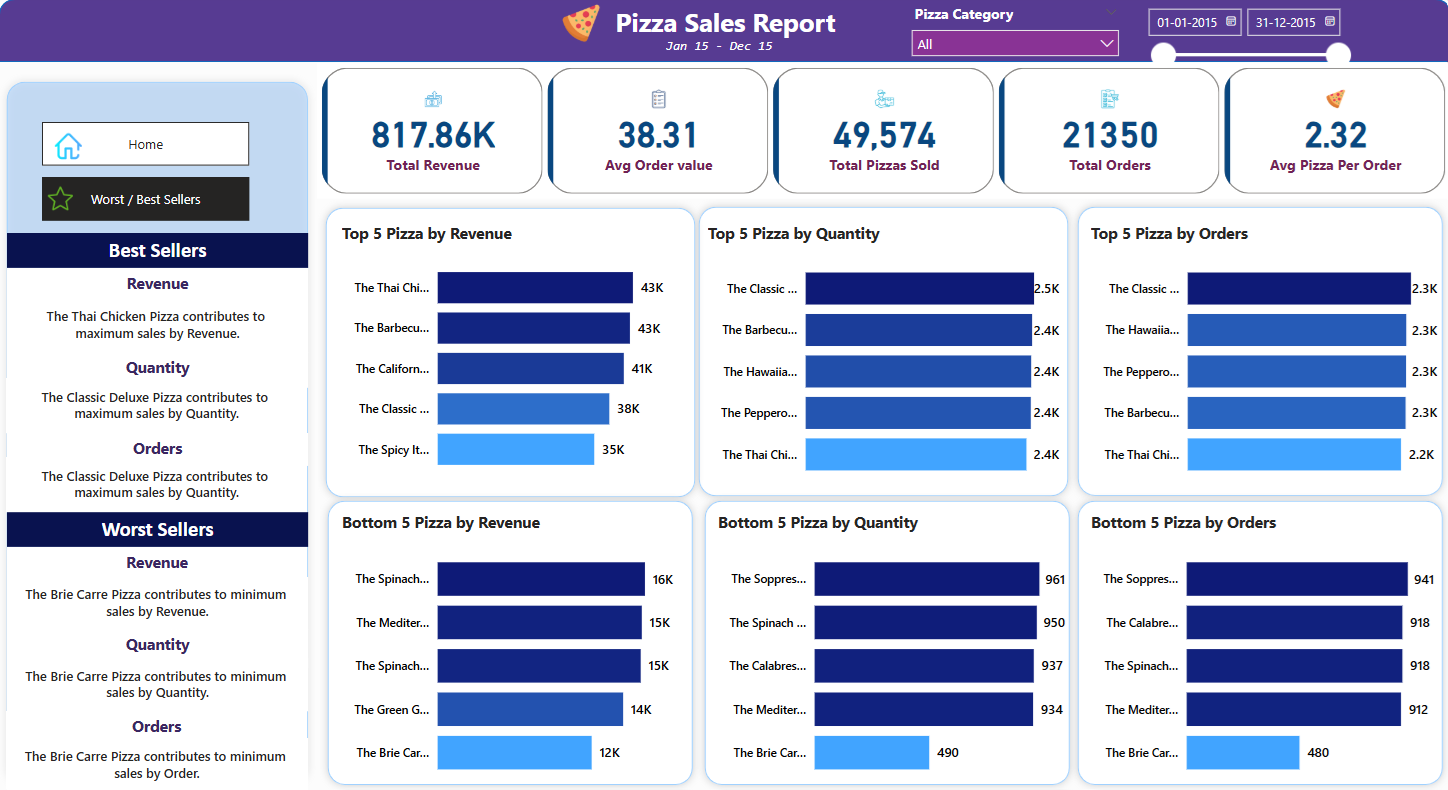

The page's visual inventory and layout, read from the dashboard file:
{"tool":"powerbi","page":{"name":"Worst / Best Sellers","canvas":[1500,820],"ordinal":1},"visuals":[{"type":"shape","box":[0,77.5,327.4,741.5],"z":0},{"type":"cardVisual","fields":{"Data":["pizzasales.Total Revenue","pizzasales.Avg Order value","pizzasales.Total Pizzas Sold","pizzasales.Total Orders","pizzasales.Avg Pizza Per Order"]},"box":[328.4,66.1,1171.1,140.5],"z":1000},{"type":"shape","box":[0,0,1500,65],"z":2000},{"type":"textbox","box":[612.1,0,275.8,50.2],"z":3000},{"type":"textbox","box":[683.9,34.2,131.1,31.9],"z":4000},{"type":"image","box":[573.3,0,57,50.2],"z":5000},{"type":"textbox","box":[8.3,241.7,310.9,36.1],"z":6000},{"type":"textbox","box":[8.3,277.8,310.9,31],"z":7000},{"type":"textbox","box":[8.3,529.8,310.9,36.1],"z":8000},{"type":"slicer","fields":{"Values":["pizzasales.pizza_category"]},"box":[932.6,0,234.4,65.1],"z":9000},{"type":"slicer","fields":{"Values":["pizzasales.order_date"]},"box":[1174,0,230.2,78.6],"z":10000},{"type":"shape","box":[714.7,206.5,397.6,315],"z":11000},{"type":"shape","box":[1106.1,206.5,393.5,315],"z":12000},{"type":"shape","box":[329.4,207.6,397.6,315],"z":13000},{"type":"shape","box":[1106.1,510.2,393.5,309.8],"z":14000},{"type":"shape","box":[331.5,510.2,393.5,309.8],"z":15000},{"type":"shape","box":[720.9,510.2,393.5,309.8],"z":16000},{"type":"barChart","title":"Top 5 Pizza by Revenue","fields":{"Category":["pizzasales.pizza_name"],"Y":["pizzasales.Total Revenue"]},"box":[349.1,231.3,364.6,272.6],"z":17000},{"type":"barChart","title":"Bottom 5 Pizza by Revenue","fields":{"Category":["pizzasales.pizza_name"],"Y":["pizzasales.Total Revenue"]},"box":[349.1,529.8,365.6,290.2],"z":18000},{"type":"barChart","title":"Top 5 Pizza by Quantity","fields":{"Category":["pizzasales.pizza_name"],"Y":["pizzasales.Total Pizzas Sold"]},"box":[727.1,231.3,372.8,278.8],"z":19000},{"type":"barChart","title":"Bottom 5 Pizza by Quantity","fields":{"Category":["pizzasales.pizza_name"],"Y":["pizzasales.Total Pizzas Sold"]},"box":[737.4,529.8,368.7,290.2],"z":20000},{"type":"barChart","title":"Top 5 Pizza by Orders","fields":{"Category":["pizzasales.pizza_name"],"Y":["pizzasales.Total Orders"]},"box":[1122.6,231.3,367.7,278.8],"z":21000},{"type":"barChart","title":"Bottom 5 Pizza by Orders","fields":{"Category":["pizzasales.pizza_name"],"Y":["pizzasales.Total Orders"]},"box":[1122.6,529.8,364.6,290.2],"z":22000},{"type":"pageNavigator","box":[44.4,183.8,214.8,45.4],"z":23000},{"type":"pageNavigator","box":[44.4,127,214.8,45.4],"z":24000},{"type":"image","box":[52.7,127,38.2,49.6],"z":25000},{"type":"image","box":[44.4,188,38.2,36.1],"z":26000},{"type":"textbox","box":[8.3,364.6,310.9,37.2],"z":27000},{"type":"card","fields":{"Values":["pizzasales.Top Selling Pizza by Revenue"]},"box":[8.3,308.8,310.9,55.8],"z":28000},{"type":"card","fields":{"Values":["pizzasales.Top Selling Pizza by TPS"]},"box":[7.2,391.4,310.9,56.8],"z":29000},{"type":"textbox","box":[8.3,448.2,310.9,34.1],"z":30000},{"type":"card","fields":{"Values":["pizzasales.Top Selling Pizza by TPS"]},"box":[7.2,473,310.9,56.8],"z":31000},{"type":"textbox","box":[8.3,565.9,309.8,38.2],"z":32000},{"type":"card","fields":{"Values":["pizzasales.Bottom Selling Pizza by Revenue"]},"box":[8.3,596.9,310.9,53.7],"z":33000},{"type":"textbox","box":[7.2,735.3,310.9,39.2],"z":34000},{"type":"card","fields":{"Values":["pizzasales.Bottom Selling Pizza by TPS"]},"box":[8.3,680.6,310.9,54.7],"z":35000},{"type":"textbox","box":[8.3,650.6,310.9,40.3],"z":35001},{"type":"card","fields":{"Values":["pizzasales.Bottom Selling Pizza by Order"]},"box":[7.2,763.2,311.9,55.8],"z":35002}]}

Visuals, with their boxes in screenshot pixels (x1, y1, x2, y2), scaled from the page's 1500x820 canvas onto the 1448x790 screenshot:
shape: left=0, top=75, right=316, bottom=789
cardVisual - pizzasales.Total Revenue x pizzasales.Avg Order value: left=317, top=64, right=1447, bottom=199
shape: left=0, top=0, right=1447, bottom=63
textbox: left=591, top=0, right=857, bottom=48
textbox: left=660, top=33, right=787, bottom=64
image: left=553, top=0, right=608, bottom=48
textbox: left=8, top=233, right=308, bottom=268
textbox: left=8, top=268, right=308, bottom=298
textbox: left=8, top=510, right=308, bottom=545
slicer - pizzasales.pizza_category: left=900, top=0, right=1127, bottom=63
slicer - pizzasales.order_date: left=1133, top=0, right=1356, bottom=76
shape: left=690, top=199, right=1074, bottom=502
shape: left=1068, top=199, right=1447, bottom=502
shape: left=318, top=200, right=702, bottom=503
shape: left=1068, top=492, right=1447, bottom=789
shape: left=320, top=492, right=700, bottom=789
shape: left=696, top=492, right=1076, bottom=789
"Top 5 Pizza by Revenue" barChart: left=337, top=223, right=689, bottom=485
"Bottom 5 Pizza by Revenue" barChart: left=337, top=510, right=690, bottom=789
"Top 5 Pizza by Quantity" barChart: left=702, top=223, right=1062, bottom=491
"Bottom 5 Pizza by Quantity" barChart: left=712, top=510, right=1068, bottom=789
"Top 5 Pizza by Orders" barChart: left=1084, top=223, right=1439, bottom=491
"Bottom 5 Pizza by Orders" barChart: left=1084, top=510, right=1436, bottom=789
pageNavigator: left=43, top=177, right=250, bottom=221
pageNavigator: left=43, top=122, right=250, bottom=166
image: left=51, top=122, right=88, bottom=170
image: left=43, top=181, right=80, bottom=216
textbox: left=8, top=351, right=308, bottom=387
card - pizzasales.Top Selling Pizza by Revenue: left=8, top=298, right=308, bottom=351
card - pizzasales.Top Selling Pizza by TPS: left=7, top=377, right=307, bottom=432
textbox: left=8, top=432, right=308, bottom=465
card - pizzasales.Top Selling Pizza by TPS: left=7, top=456, right=307, bottom=510
textbox: left=8, top=545, right=307, bottom=582
card - pizzasales.Bottom Selling Pizza by Revenue: left=8, top=575, right=308, bottom=627
textbox: left=7, top=708, right=307, bottom=746
card - pizzasales.Bottom Selling Pizza by TPS: left=8, top=656, right=308, bottom=708
textbox: left=8, top=627, right=308, bottom=666
card - pizzasales.Bottom Selling Pizza by Order: left=7, top=735, right=308, bottom=789
